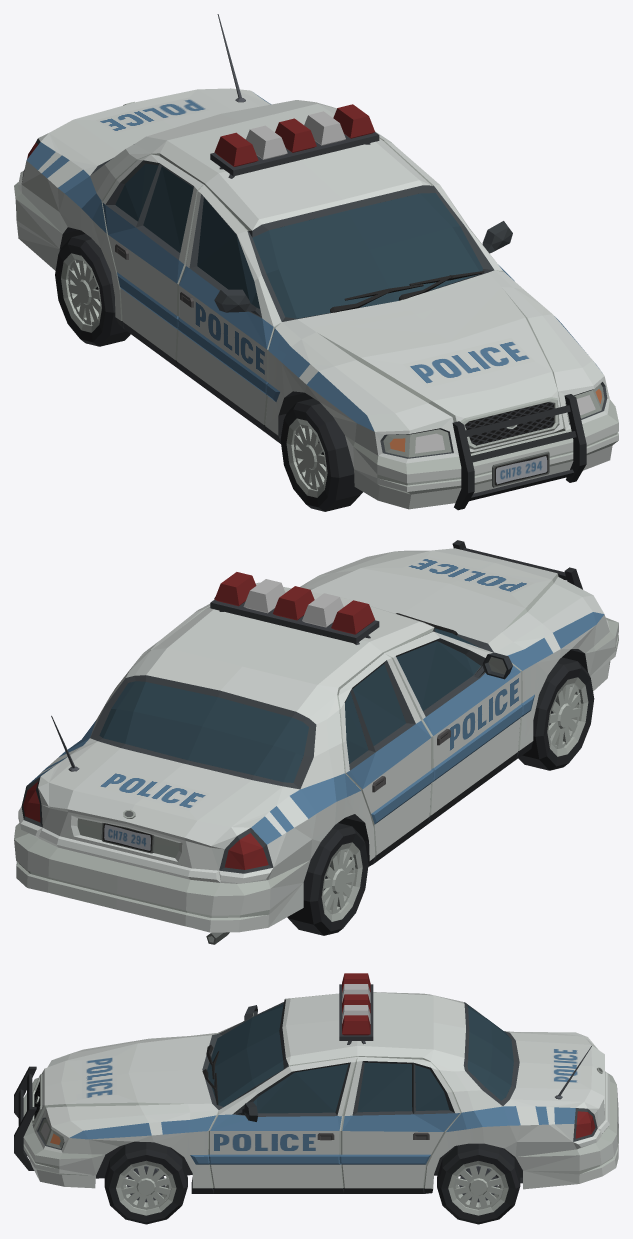
The model's file is police.glb.
3 renders of one model, top to bottom at view 1: azimuth 30°, elevation 25°; view 2: azimuth 150°, elevation 25°; view 3: azimuth 270°, elevation 25°, orthographic. The views are drawn at different scales.
Visible parts, largest first — view 1: SM_Veh_Car_Police_01, SM_Veh_Car_Police_Glass, SM_Veh_Car_Police_Wheel_fr, SM_Veh_Car_Police_Wheel_rr, SM_Veh_Car_Police_Plates; view 2: SM_Veh_Car_Police_01, SM_Veh_Car_Police_Glass, SM_Veh_Car_Police_Wheel_rr, SM_Veh_Car_Police_Wheel_fr, SM_Veh_Car_Police_Plates; view 3: SM_Veh_Car_Police_01, SM_Veh_Car_Police_Glass, SM_Veh_Car_Police_Wheel_fl, SM_Veh_Car_Police_Wheel_rl.
Part boxes in pixels (box(x1,y1,x2,y2)): SM_Veh_Car_Police_01: box(14, 14, 618, 510); SM_Veh_Car_Police_Glass: box(115, 163, 482, 318); SM_Veh_Car_Police_Wheel_fr: box(280, 398, 362, 511); SM_Veh_Car_Police_Wheel_rr: box(55, 234, 130, 346); SM_Veh_Car_Police_Plates: box(492, 451, 549, 487); SM_Veh_Car_Police_01: box(14, 540, 618, 944); SM_Veh_Car_Police_Glass: box(99, 628, 480, 782); SM_Veh_Car_Police_Wheel_rr: box(287, 823, 368, 935); SM_Veh_Car_Police_Wheel_fr: box(518, 657, 594, 770); SM_Veh_Car_Police_Plates: box(101, 823, 154, 853); SM_Veh_Car_Police_01: box(14, 973, 618, 1193); SM_Veh_Car_Police_Glass: box(207, 1003, 513, 1113); SM_Veh_Car_Police_Wheel_fl: box(104, 1141, 187, 1224); SM_Veh_Car_Police_Wheel_rl: box(437, 1143, 520, 1224).
Bounding box in the file's own units: 1.82 × 1.55 × 4.4.
2 materials, 1 textured.
